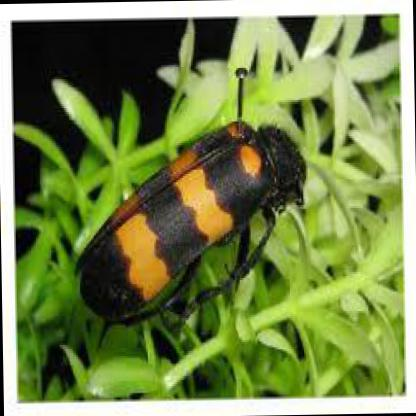blister beetle: (75, 116, 307, 325)
